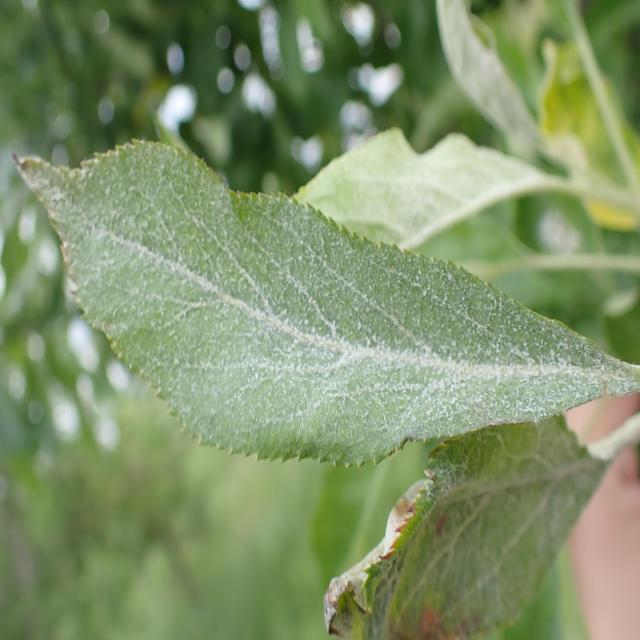Powdery_mildew: (14, 114, 640, 426), (296, 418, 622, 627)
